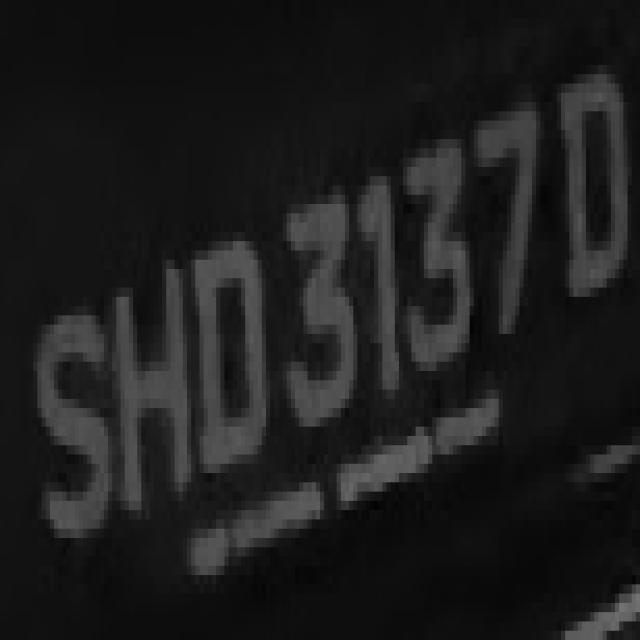1: (332, 139, 416, 455)
3: (266, 148, 353, 482), (395, 130, 482, 399)
7: (453, 93, 549, 390)
D: (544, 65, 640, 343), (191, 222, 266, 520)
H: (108, 232, 200, 556)
S: (17, 269, 116, 575)
